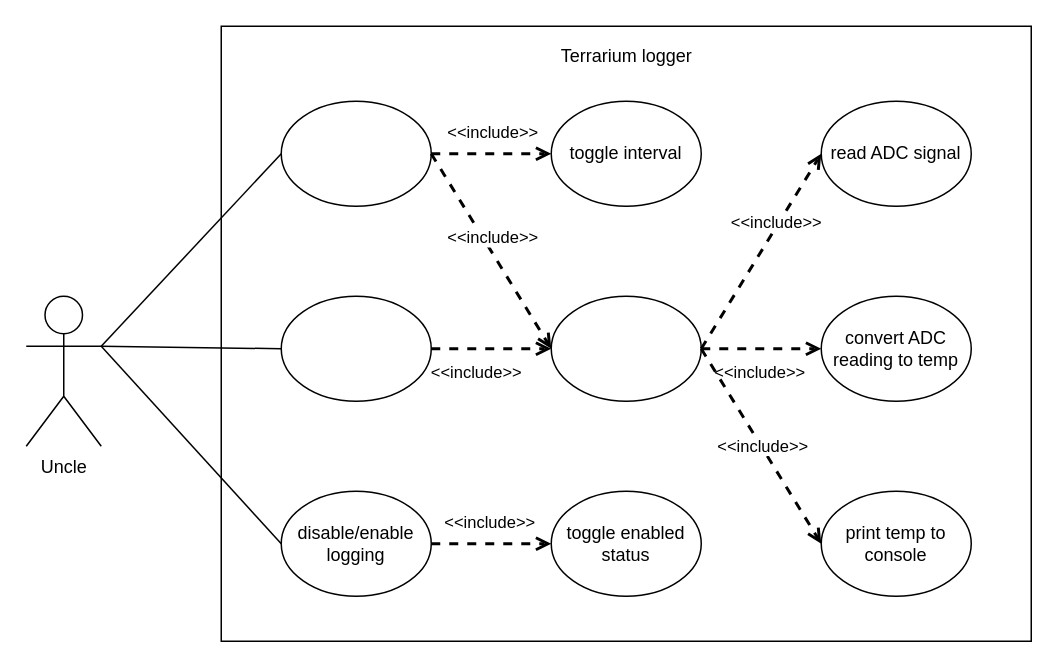
Some shapes in this 1058 by 668 pixel diagram are drawn without their labels. Here are the shapes that lost their labels. From the top down, the centre of each, then its label:
At point 355,153: "change log interval".
At point 355,348: "log in to view temperature".
At point 625,348: "display temp val at current interval".
